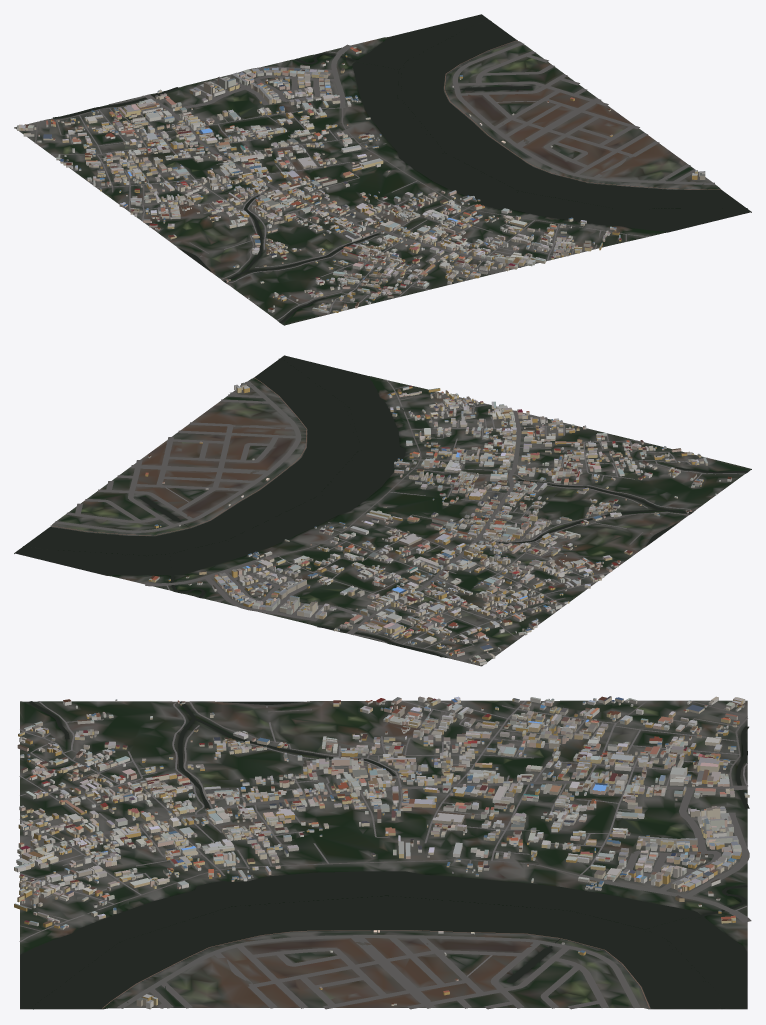
The picture shows the model from 3 angles, top to bottom: view 1: azimuth 30°, elevation 25°; view 2: azimuth 150°, elevation 25°; view 3: azimuth 270°, elevation 25°; orthographic projection. The views are drawn at different scales.
Parts seen in each view (by area): view 1: ground, buildings, water, roads; view 2: ground, buildings, water, roads; view 3: ground, buildings, water, roads.
Part boxes in pixels (x1,y1,x2,y2): ground: [14, 18, 751, 325]; buildings: [17, 47, 705, 313]; water: [53, 14, 750, 323]; roads: [19, 40, 720, 320]; ground: [14, 369, 751, 666]; buildings: [145, 382, 731, 665]; water: [15, 355, 748, 657]; roads: [50, 377, 744, 660]; ground: [20, 700, 747, 1009]; buildings: [14, 696, 749, 1009]; water: [20, 701, 749, 1009]; roads: [18, 700, 751, 1009].
Size of the model in its own units: 1412 by 32.33 by 1421.
